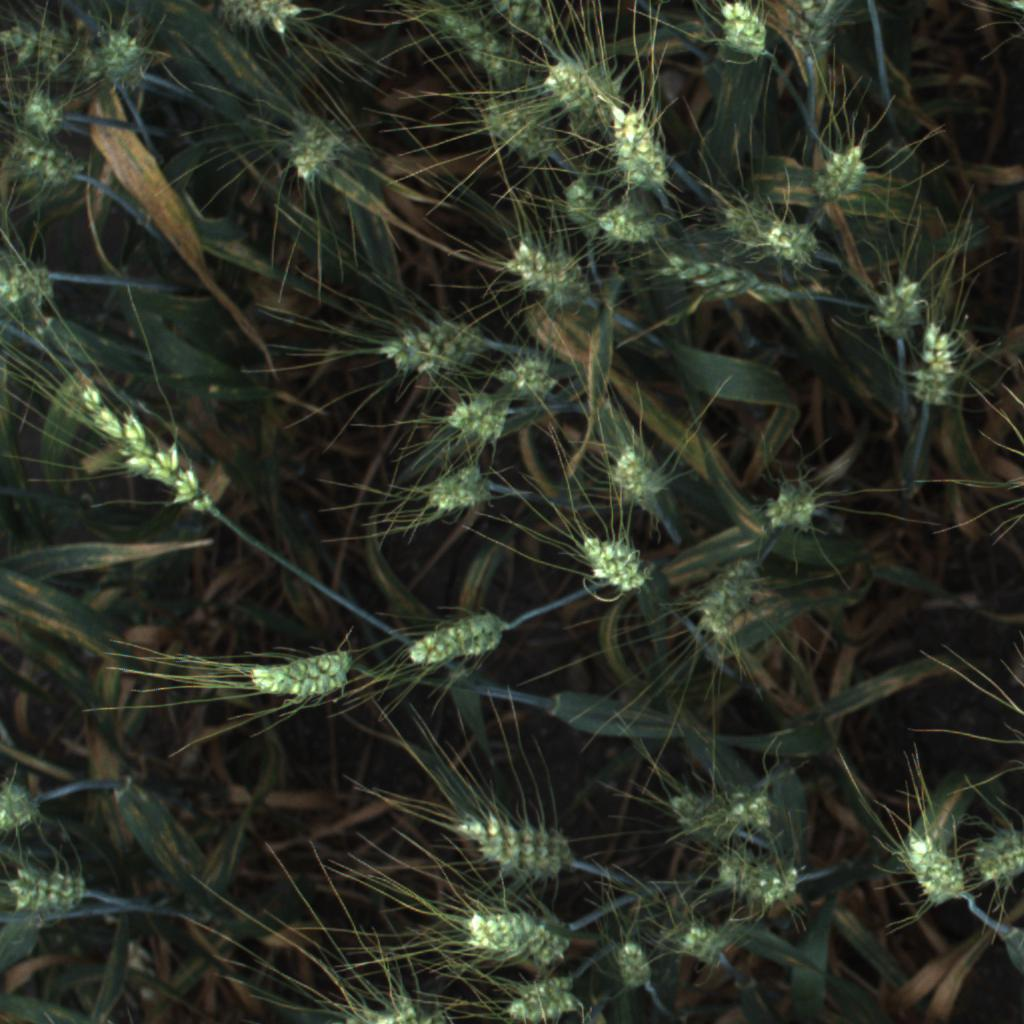0-0: (72, 369, 221, 523), (441, 798, 586, 885), (222, 633, 369, 712), (448, 892, 586, 968), (421, 0, 533, 90), (367, 309, 503, 378), (599, 95, 685, 204), (689, 546, 772, 647), (538, 52, 638, 134), (0, 849, 99, 931), (499, 230, 598, 309), (466, 94, 566, 171), (562, 527, 667, 600), (408, 603, 511, 677), (898, 819, 974, 914), (81, 12, 170, 93), (705, 844, 811, 912), (665, 255, 798, 309), (407, 457, 513, 524), (0, 13, 109, 77), (861, 258, 933, 354), (751, 464, 834, 544), (905, 307, 964, 416), (806, 128, 878, 217), (597, 435, 686, 507), (437, 385, 524, 451), (284, 108, 360, 182), (781, 0, 852, 79), (660, 784, 754, 843), (697, 0, 780, 66), (0, 136, 93, 193), (738, 206, 830, 262), (960, 818, 1024, 898), (195, 0, 315, 41), (324, 986, 450, 1024), (495, 344, 564, 410), (595, 192, 671, 249), (725, 776, 784, 844), (599, 934, 661, 997), (9, 82, 73, 143), (0, 253, 60, 314), (496, 986, 591, 1024), (675, 912, 733, 972), (499, 0, 565, 44), (491, 970, 585, 1000), (1, 781, 48, 836)
